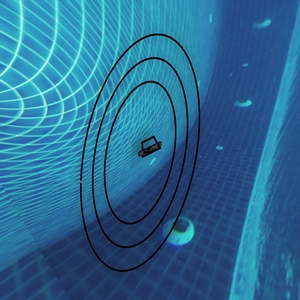circle: (53, 29, 242, 282)
submarine: (135, 138, 165, 156)
